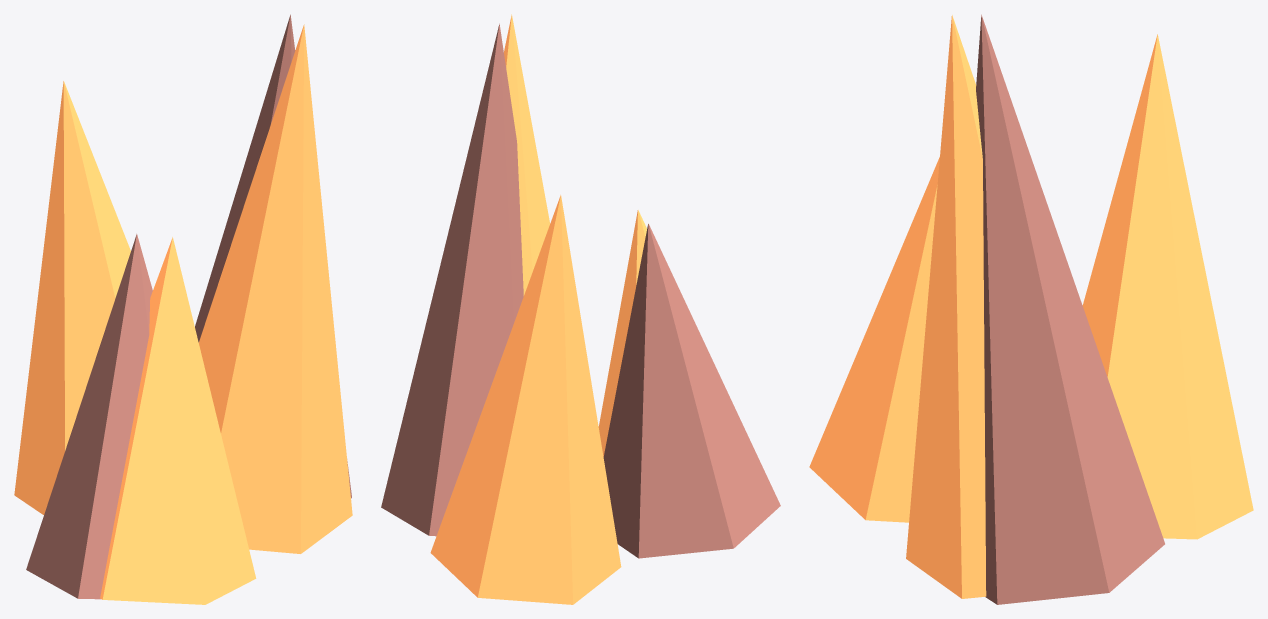
Rendered from ember_crystal_c.glb.
The picture shows the model from 3 angles, left to right: view 1: azimuth 30°, elevation 25°; view 2: azimuth 150°, elevation 25°; view 3: azimuth 270°, elevation 25°; orthographic projection. The views are drawn at different scales.
Parts seen in each view (by area): view 1: Crystal_00.002, Crystal_04, Crystal_02.002, Crystal_01.002, Crystal_03.001; view 2: Crystal_02.002, Crystal_01.002, Crystal_03.001, Crystal_00.002, Crystal_04; view 3: Crystal_03.001, Crystal_02.002, Crystal_00.002, Crystal_04.
Boxes of the visible parts, left/top/right/bottom form: Crystal_00.002: left=199, top=24, right=352, bottom=553; Crystal_04: left=100, top=237, right=256, bottom=604; Crystal_02.002: left=14, top=81, right=130, bottom=514; Crystal_01.002: left=26, top=234, right=152, bottom=599; Crystal_03.001: left=195, top=14, right=351, bottom=498; Crystal_02.002: left=430, top=195, right=621, bottom=604; Crystal_01.002: left=603, top=223, right=780, bottom=558; Crystal_03.001: left=381, top=23, right=523, bottom=536; Crystal_00.002: left=504, top=14, right=549, bottom=295; Crystal_04: left=598, top=210, right=646, bottom=456; Crystal_03.001: left=976, top=14, right=1164, bottom=604; Crystal_02.002: left=1082, top=34, right=1253, bottom=539; Crystal_00.002: left=906, top=15, right=986, bottom=598; Crystal_04: left=809, top=157, right=939, bottom=522.
Bounding box in the file's own units: 1.91 × 2.85 × 2.05.
